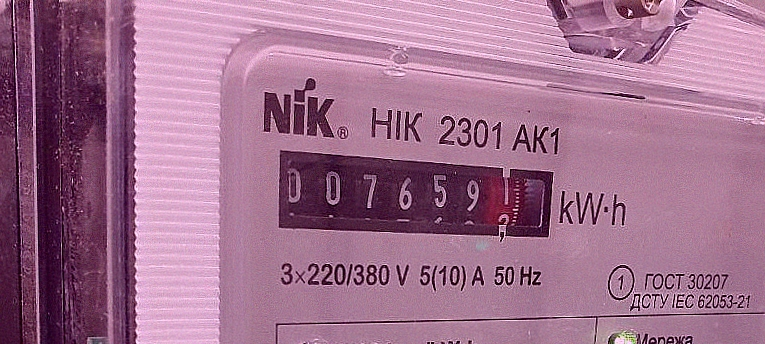0: (320, 166, 344, 207), (281, 163, 304, 205)
1: (497, 175, 514, 208)
5: (429, 171, 449, 209)
6: (394, 172, 415, 212)
7: (359, 170, 378, 210)
9: (463, 176, 480, 214)
screen: (267, 136, 562, 260)
